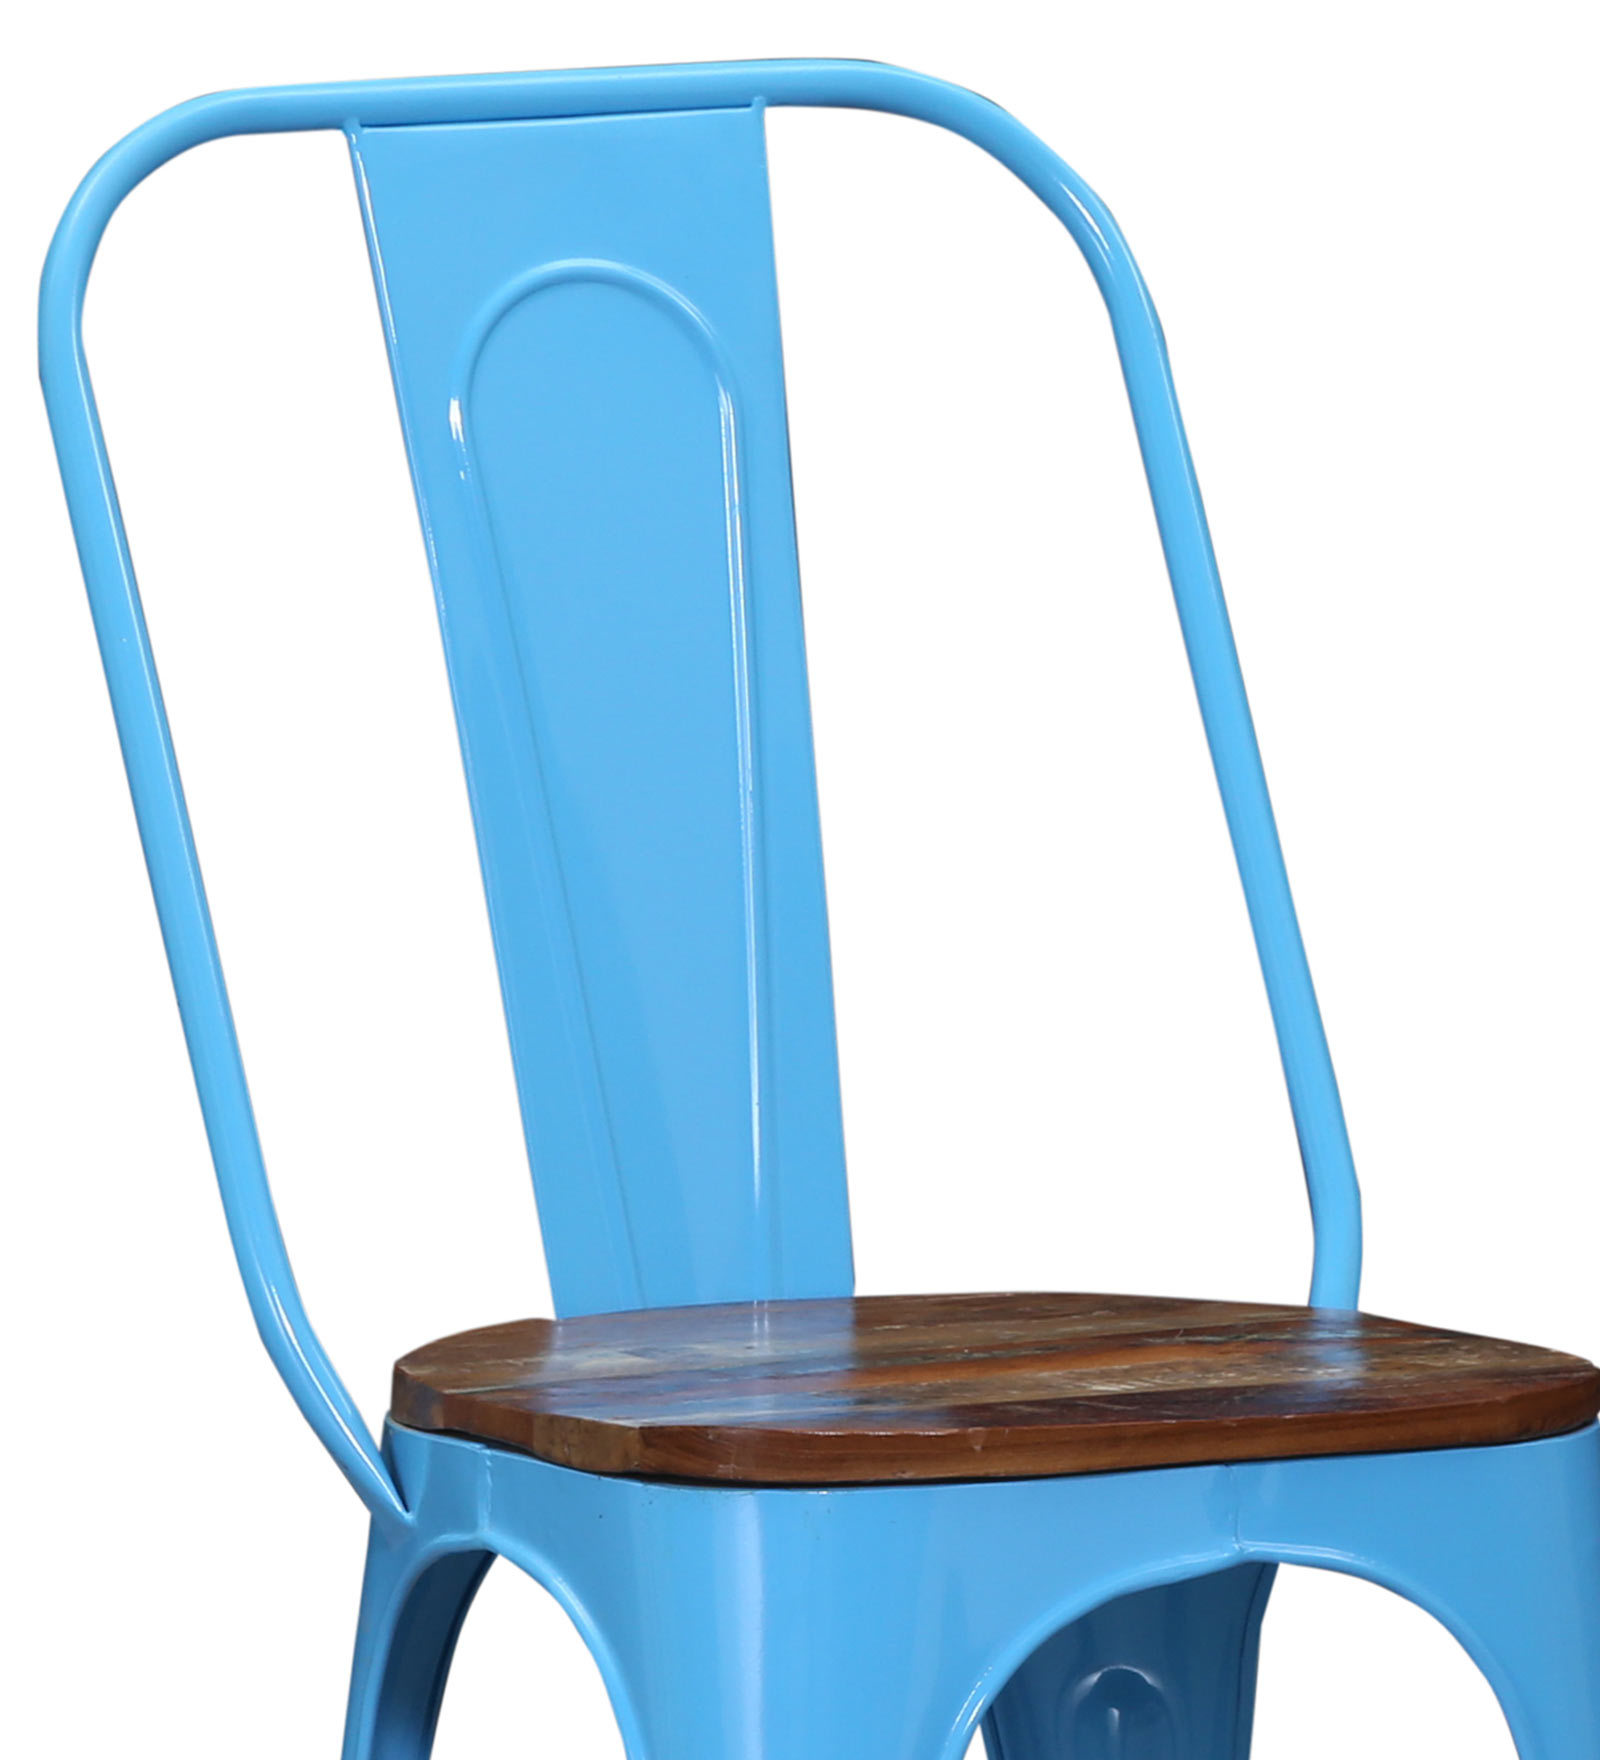Kumtor Metal Chair in Sky Blue Color with Wooden Seat by Bohemiana: (28, 51, 1600, 1760)
